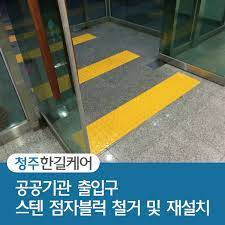guide_blocks: (79, 102, 144, 149), (142, 73, 200, 111), (79, 49, 140, 83)
